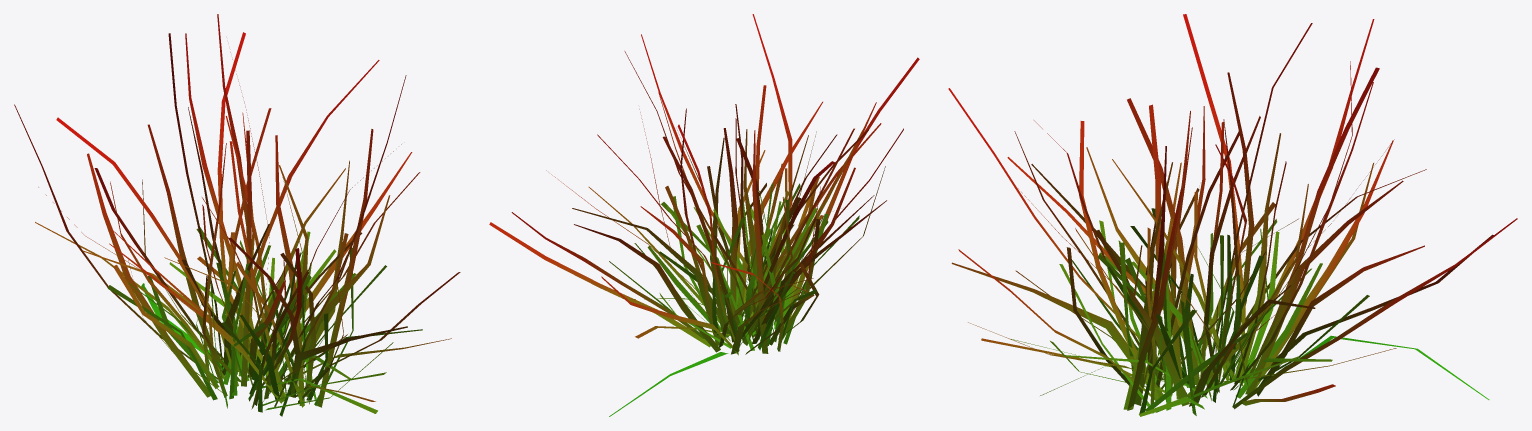
The model's file is vegetation_16.fbx.
3 renders of one model, left to right at view 1: azimuth 30°, elevation 25°; view 2: azimuth 150°, elevation 25°; view 3: azimuth 270°, elevation 25°, orthographic. The views are drawn at different scales.
Visible parts, largest first — view 1: _fqxp_Var3_; view 2: _fqxp_Var3_; view 3: _fqxp_Var3_.
Part boxes in pixels (box(x1,y1,x2,y2)): _fqxp_Var3_: box(14, 14, 460, 416); _fqxp_Var3_: box(489, 14, 919, 416); _fqxp_Var3_: box(948, 14, 1517, 416).
Bounding box in the file's own units: 35.88 × 27.21 × 41.49.
